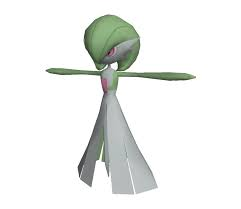gardevoir: (44, 12, 203, 195)
